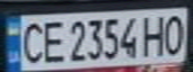2: (66, 16, 87, 63)
3: (84, 16, 106, 62)
4: (118, 13, 142, 60)
5: (103, 15, 124, 61)
C: (15, 18, 45, 65)
E: (36, 17, 66, 65)
H: (139, 11, 172, 57)
O: (160, 11, 190, 56)
